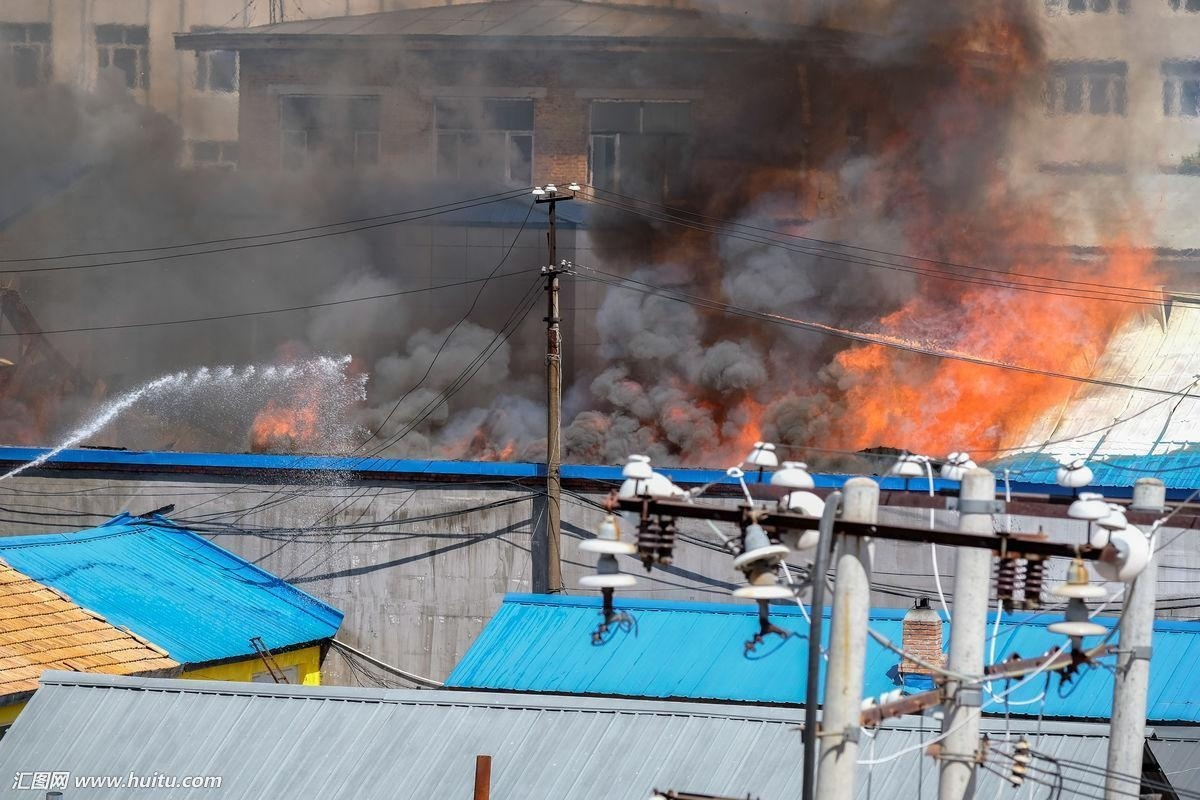fire: (763, 283, 1104, 461), (246, 389, 328, 446)
